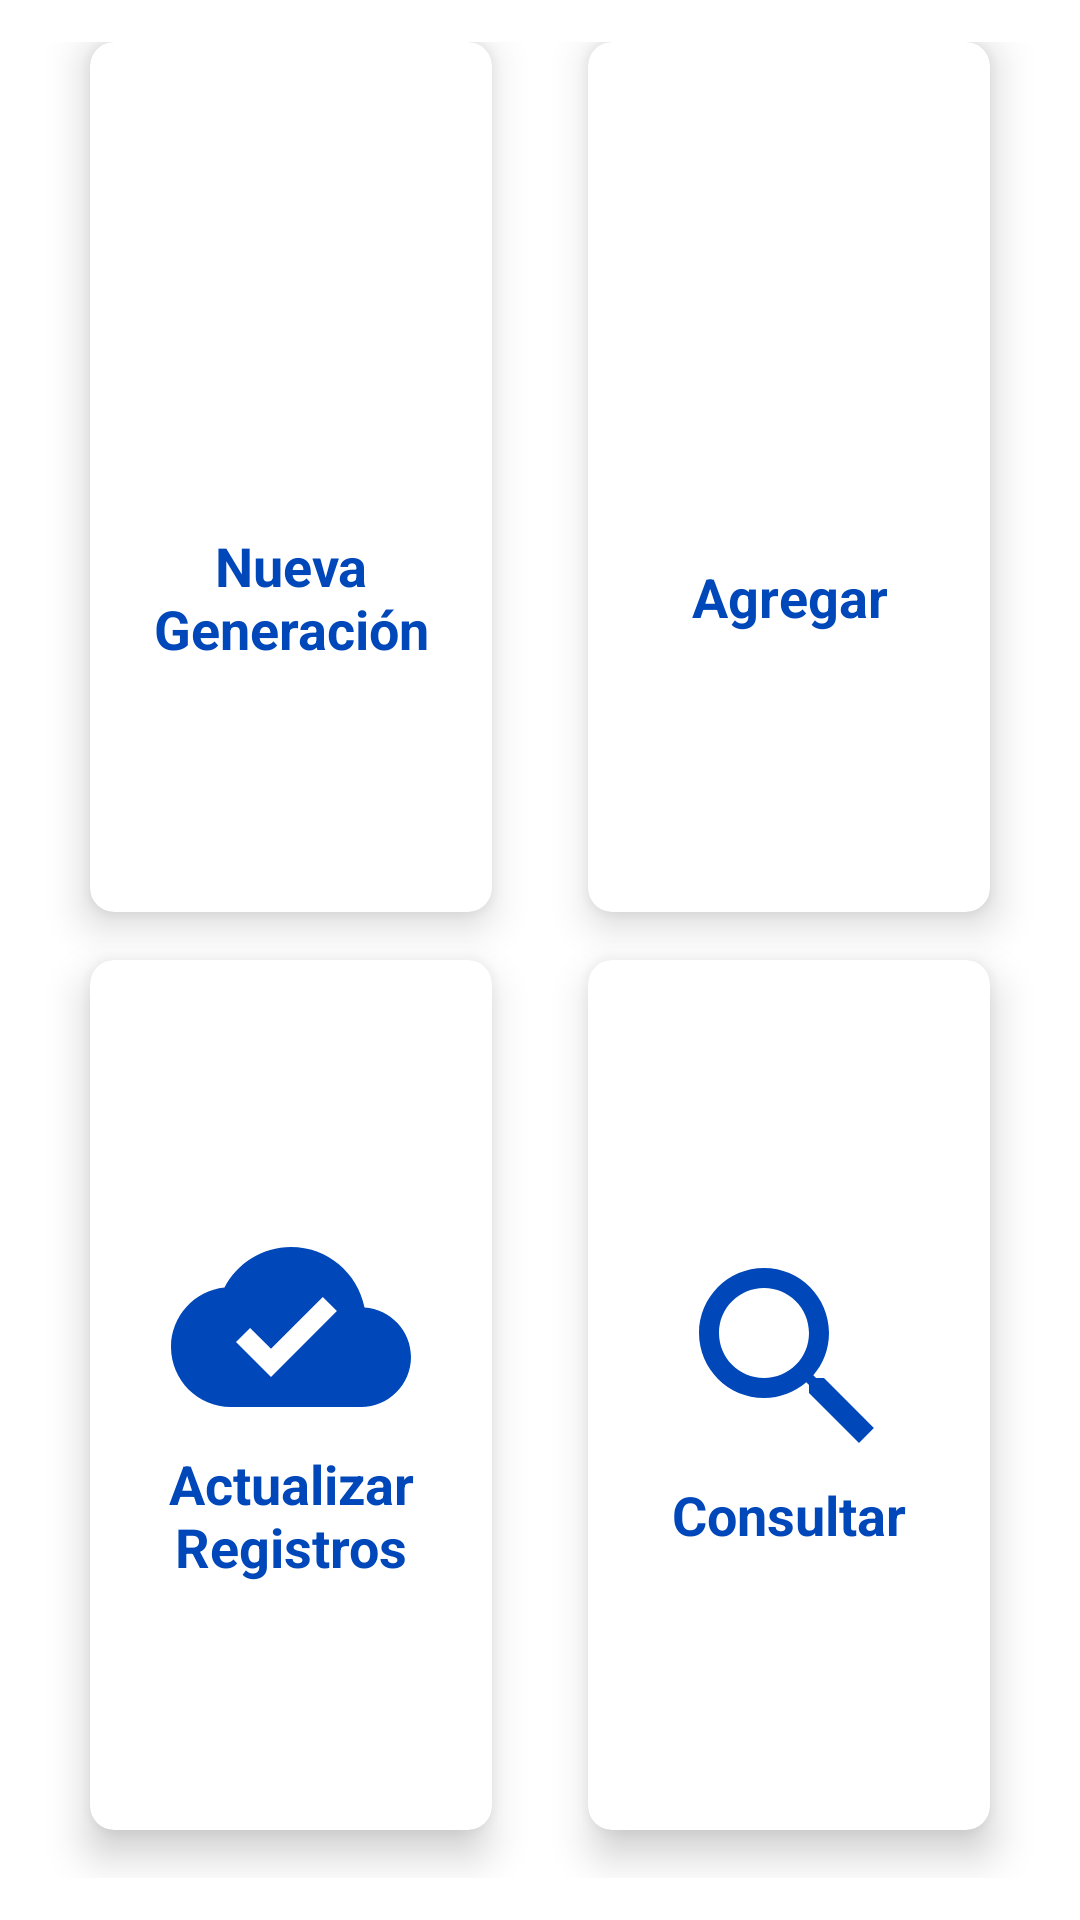

Icons on this 1080x1920 Android screen, each with its box as (x1, y1, x2, y2):
cloud done: (171, 1247, 411, 1407)
search: (699, 1268, 874, 1443)
